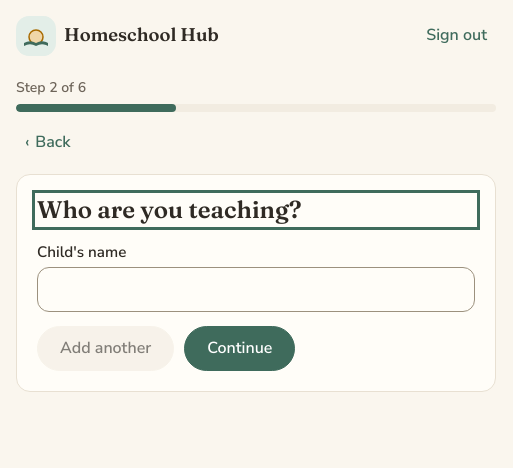
Test case: E4: setup step 2 can rename and remove a child, and asks about a repeated name › each child has Rename and Remove; Rename changes the name, Remove takes the child out of the list (and archives it)
The width and height of the screenshot is (513, 468).
Type "Mina" into the field labelled "Child's name".
click(256, 289); type("Mina")  # box [37,267,475,312]
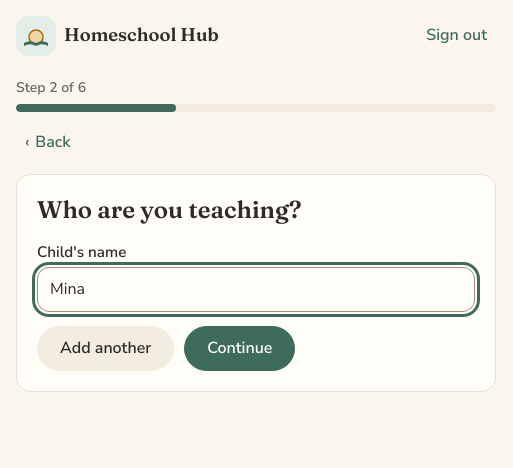
Click the button "Add another".
click(106, 348)  # box [37,326,174,371]
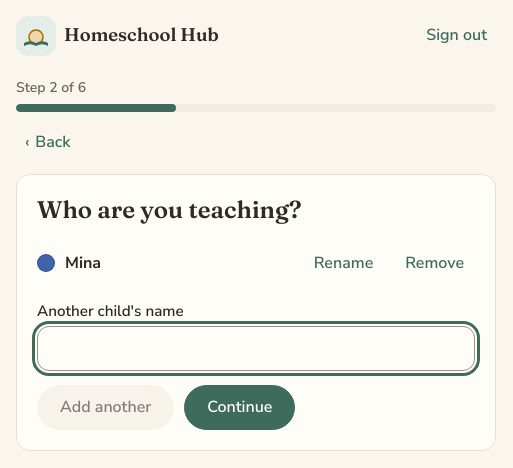
Expected: the text "Mina" is shown, [65,252,101,274]
Click the button with aria-label "Rename Mina".
click(343, 263)  # box [303,241,384,286]
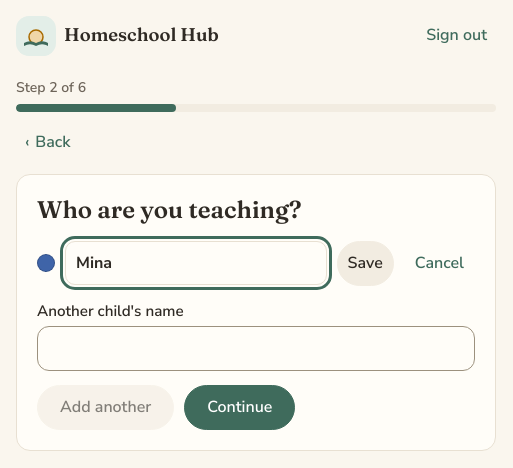
Replace the text in the field named "New name for Mina" with "Mia" at coordinates (196, 263), box [65,241,327,285]
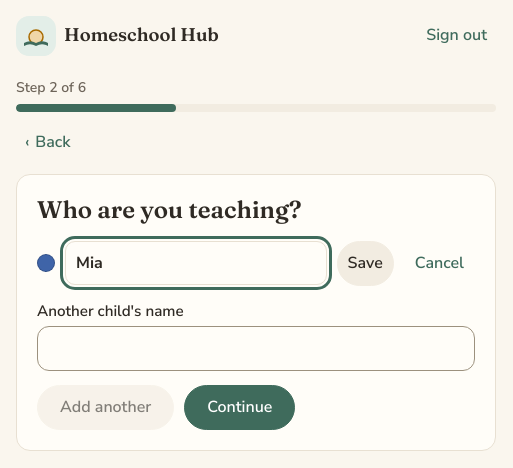
Click the button "Save".
click(365, 263)  # box [337,241,394,286]
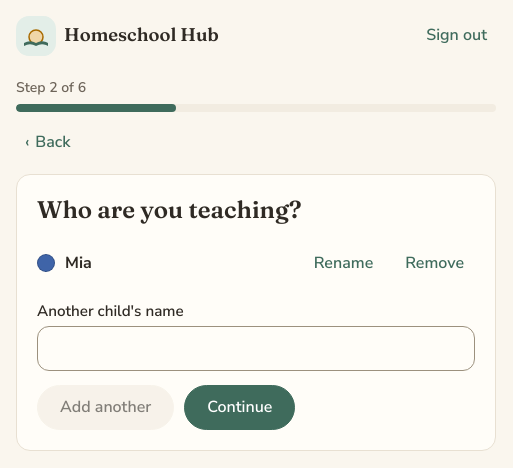
Expected: the text "Mia" is shown, [65,252,92,274]
Click the button with aria-label "Remove Mia".
click(435, 263)  # box [394,241,475,286]
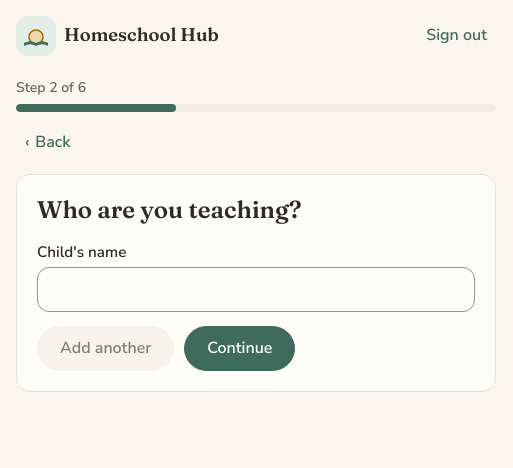
Expected: the text "Mia" is gone
